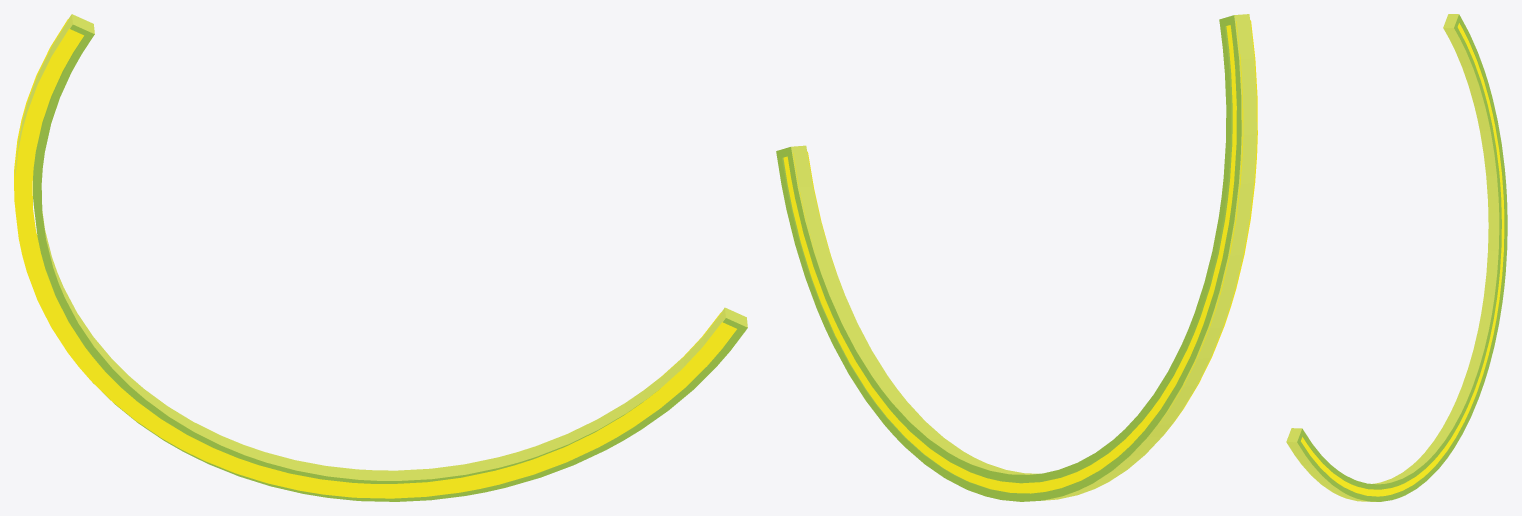
The model's file is arc1.glb.
3 renders of one model, left to right at view 1: azimuth 30°, elevation 25°; view 2: azimuth 150°, elevation 25°; view 3: azimuth 270°, elevation 25°, orthographic. The views are drawn at different scales.
Parts seen in each view (by area): view 1: melon, Extrude.1; view 2: Extrude.1, melon; view 3: Extrude.1, melon.
Part boxes in pixels (x1=…): melon: x1=14, y1=19, x2=736, y2=498; Extrude.1: x1=15, y1=14, x2=747, y2=501; Extrude.1: x1=776, y1=14, x2=1256, y2=501; melon: x1=783, y1=20, x2=1257, y2=493; Extrude.1: x1=1286, y1=14, x2=1507, y2=501; melon: x1=1301, y1=23, x2=1504, y2=496.
Bounding box in the file's own units: 4.35 × 3.76 × 2.05.
